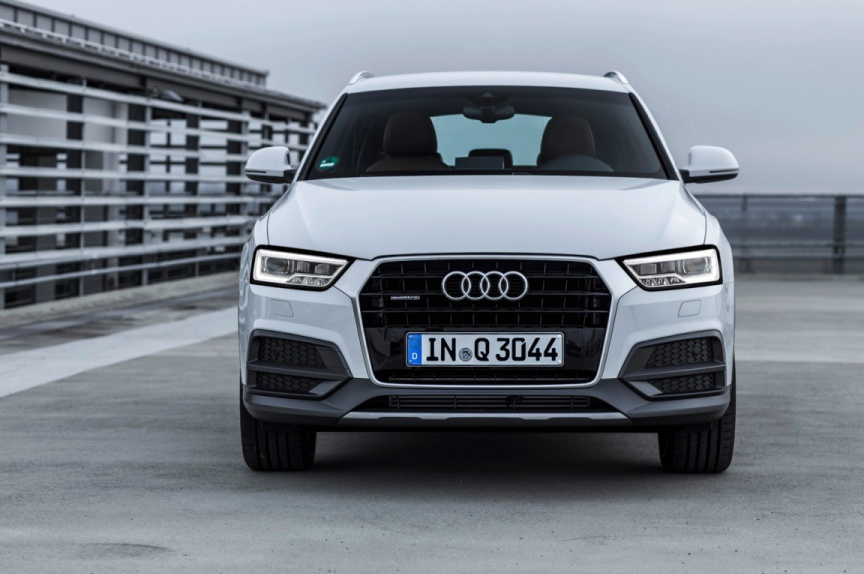audi: (433, 268, 536, 310)
